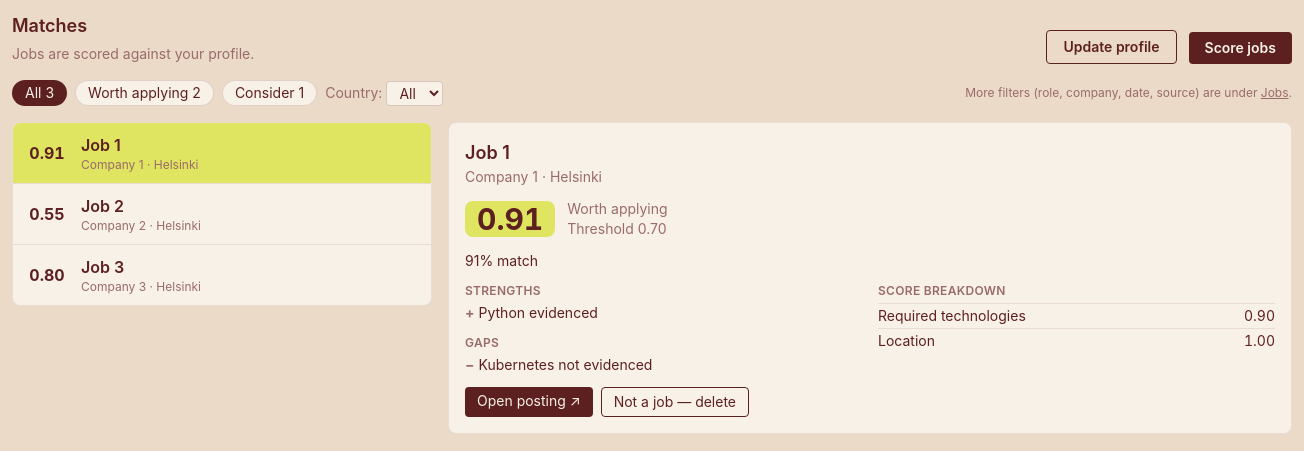
Test case: matches › filters by group and by country
This screenshot has width=1304, height=451.
expect the element named "Selected job" is shown: met, box left=448, top=122, right=1292, bottom=434
Step 1. Click the button "Consider 1" → (270, 93), box left=222, top=80, right=317, bottom=106
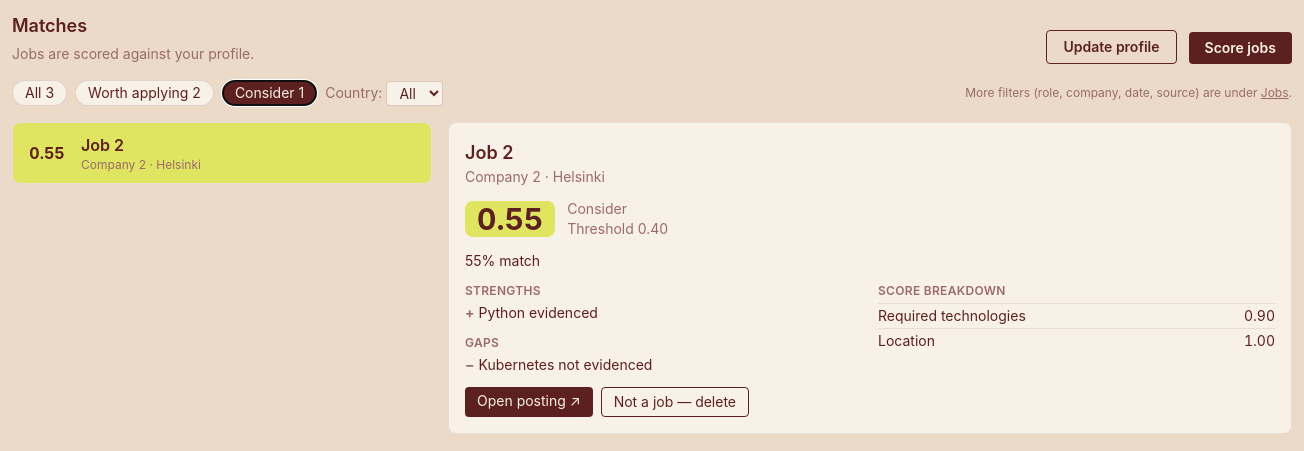
expect the text "Job 2" is shown: met, box left=81, top=135, right=124, bottom=155
expect the button "Job 1" is gone: met
Step 2. Click the button "All 3" → (40, 93), box left=12, top=80, right=67, bottom=106
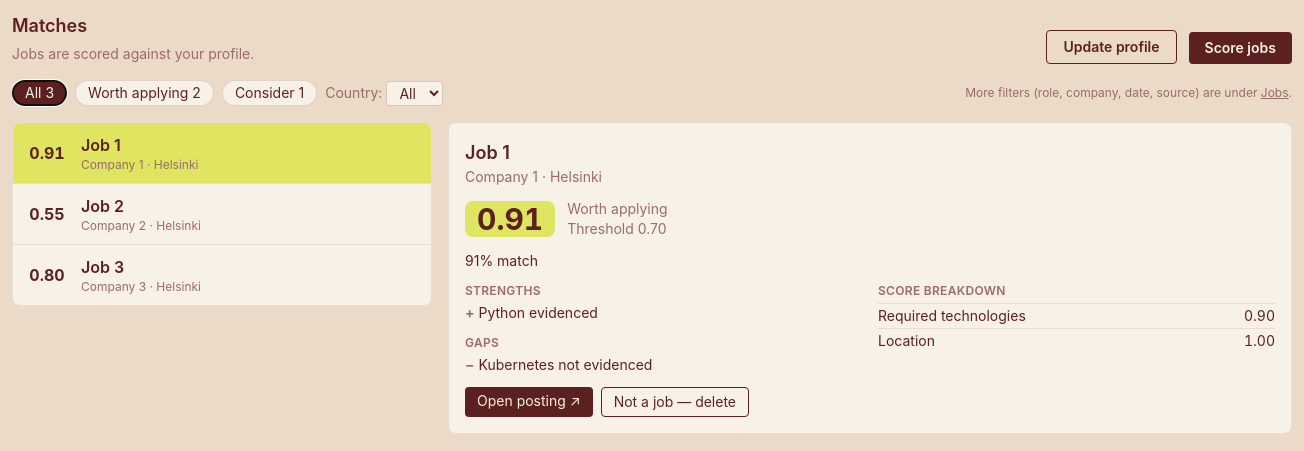
Step 3. Select "DE" in the dropdown labelled "Country:" → (415, 93), box left=386, top=80, right=443, bottom=106
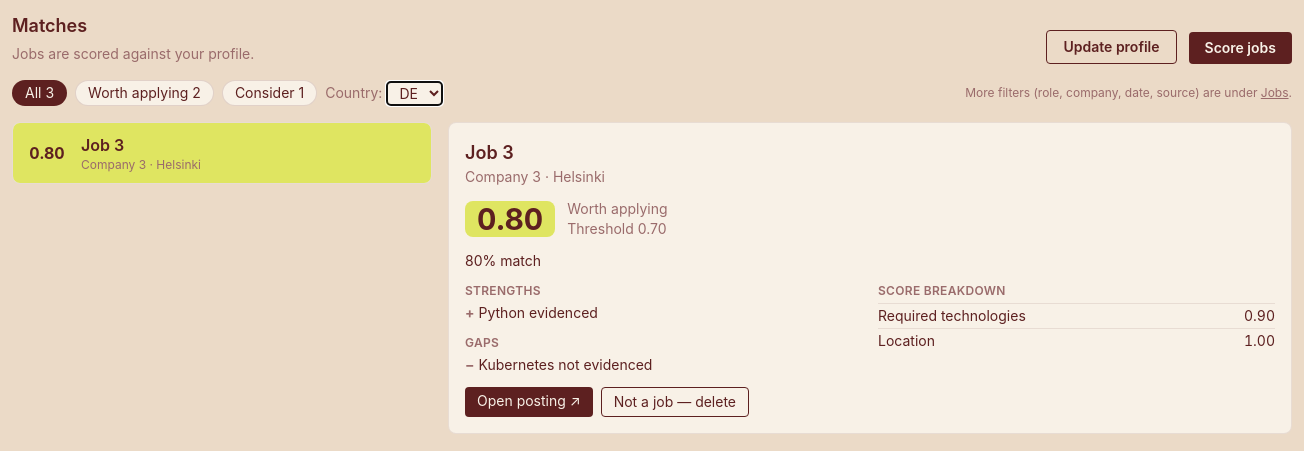
expect the text "Job 3" is shown: met, box left=81, top=135, right=124, bottom=155
expect the button "Job 1" is gone: met
